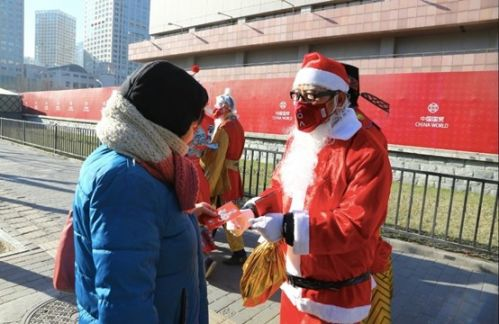face_mask: (293, 91, 328, 130)
